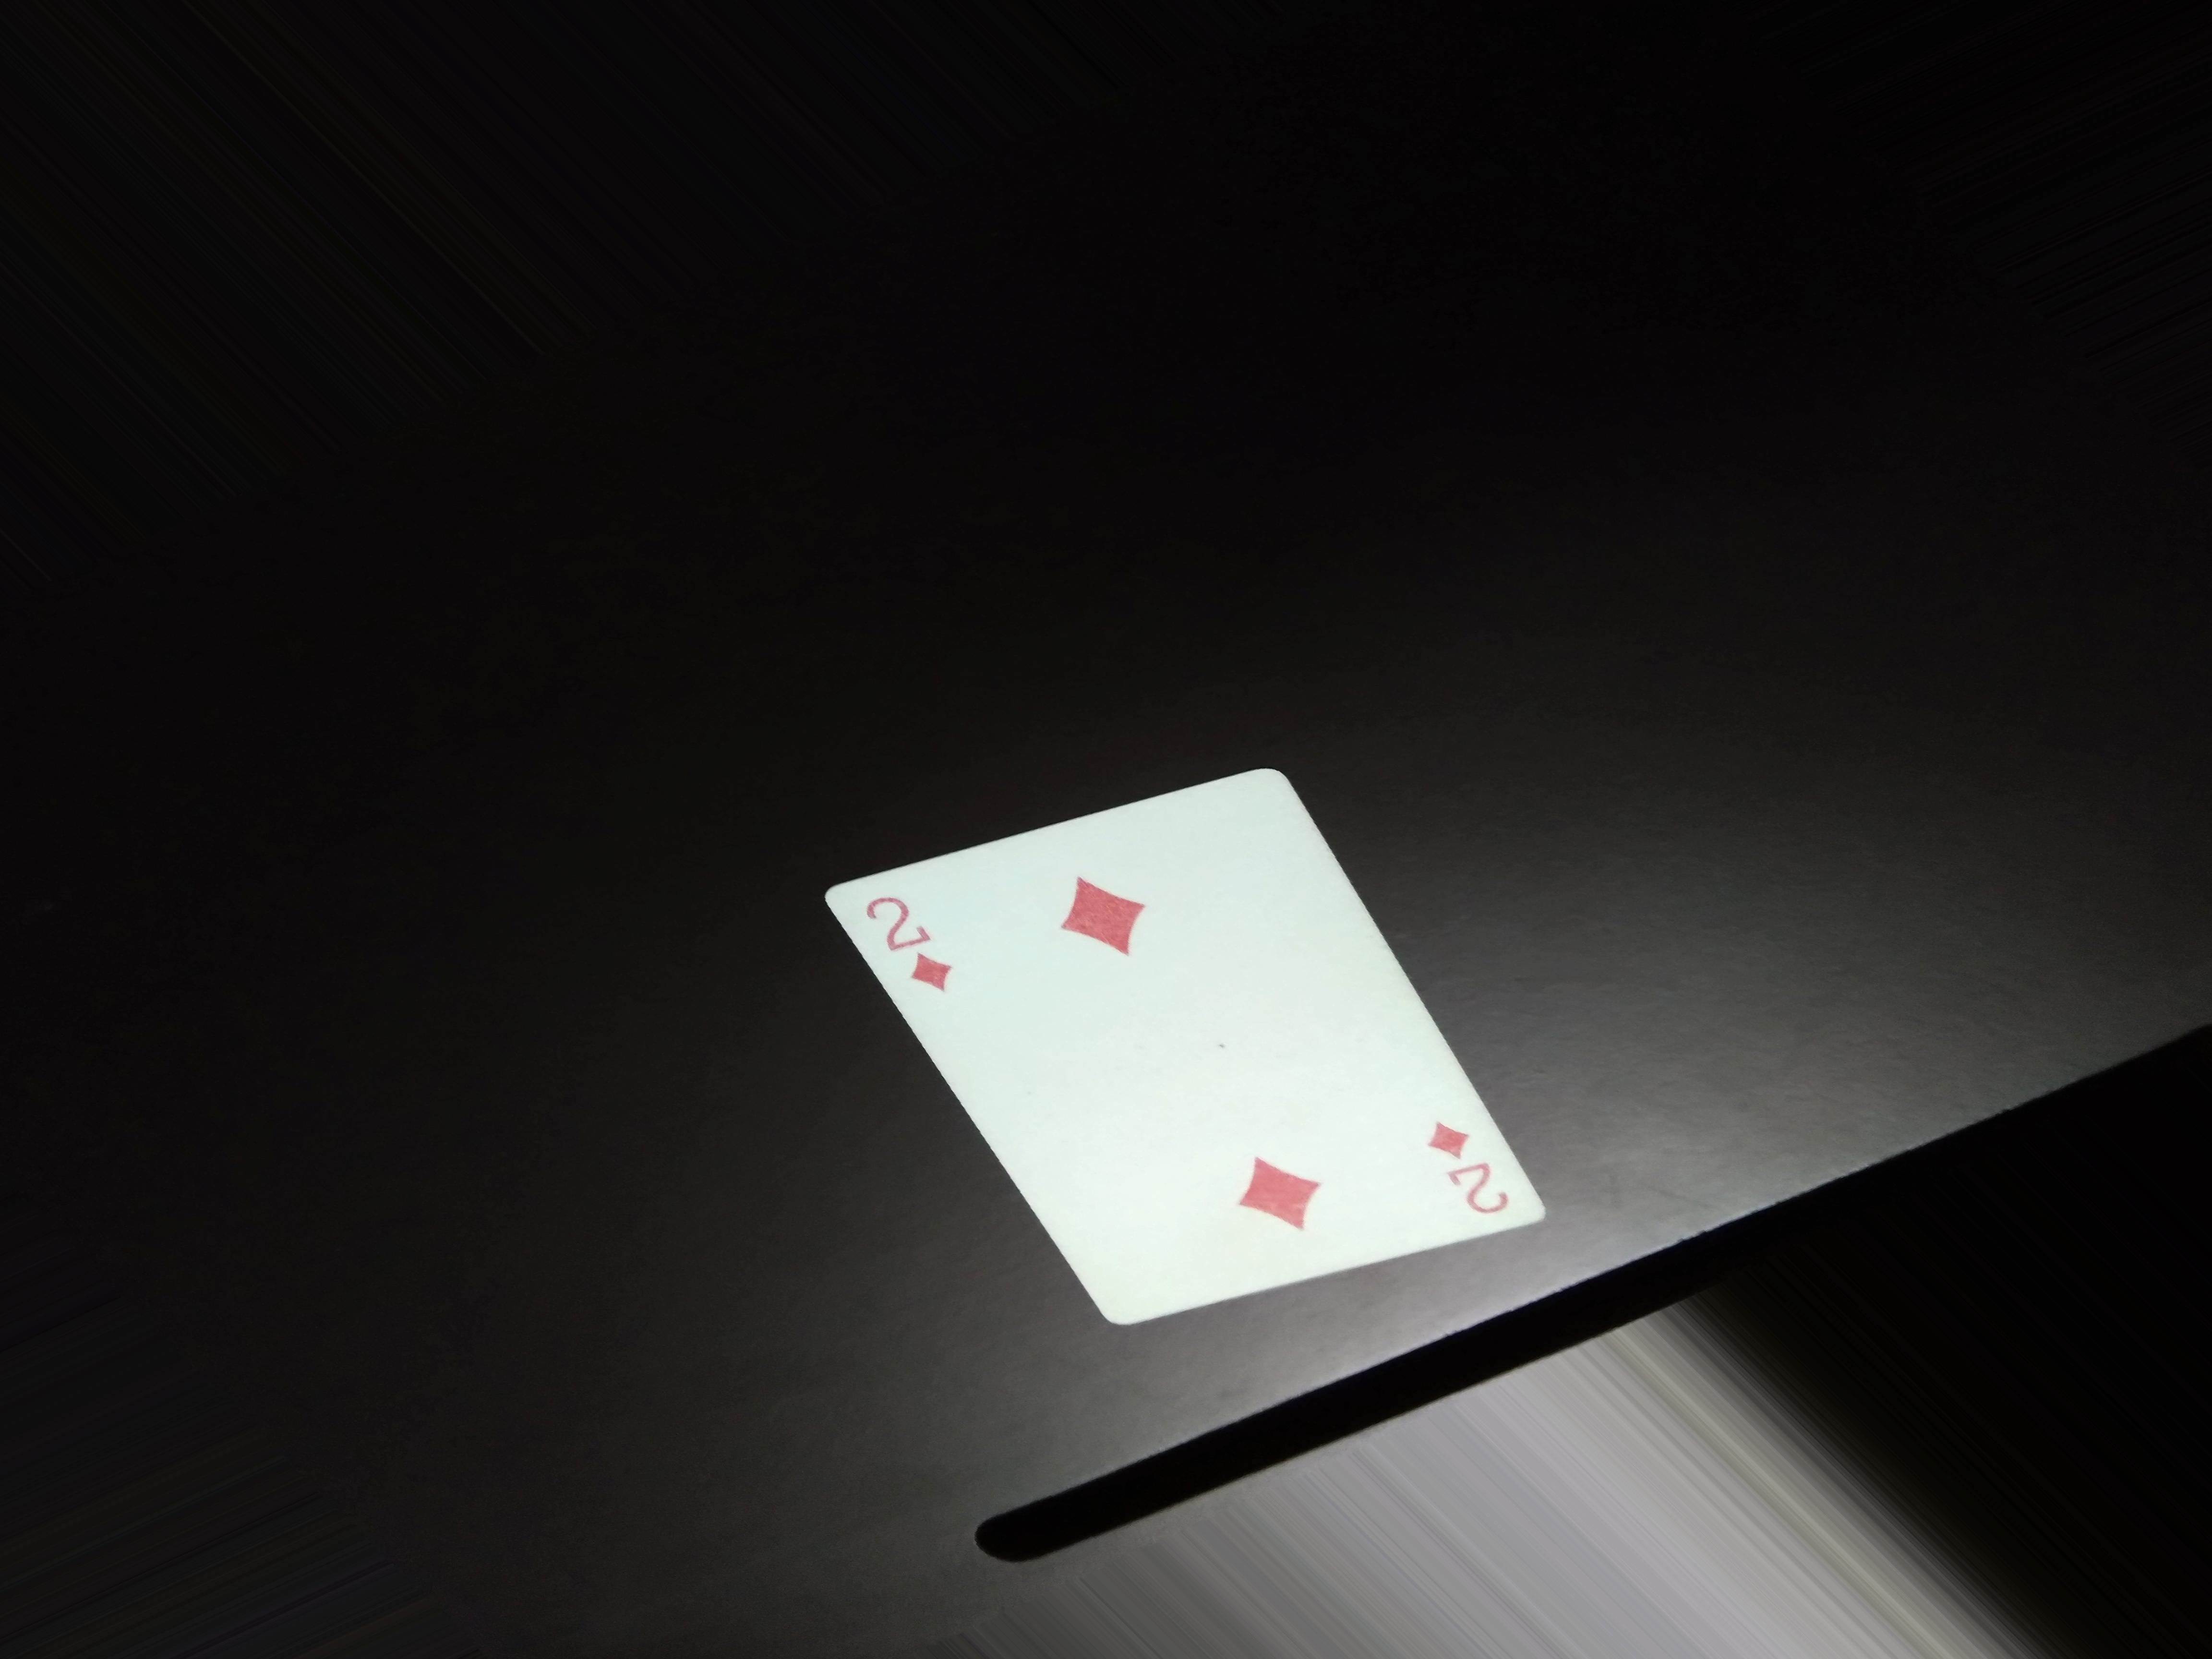2D: (855, 889, 970, 1009)
